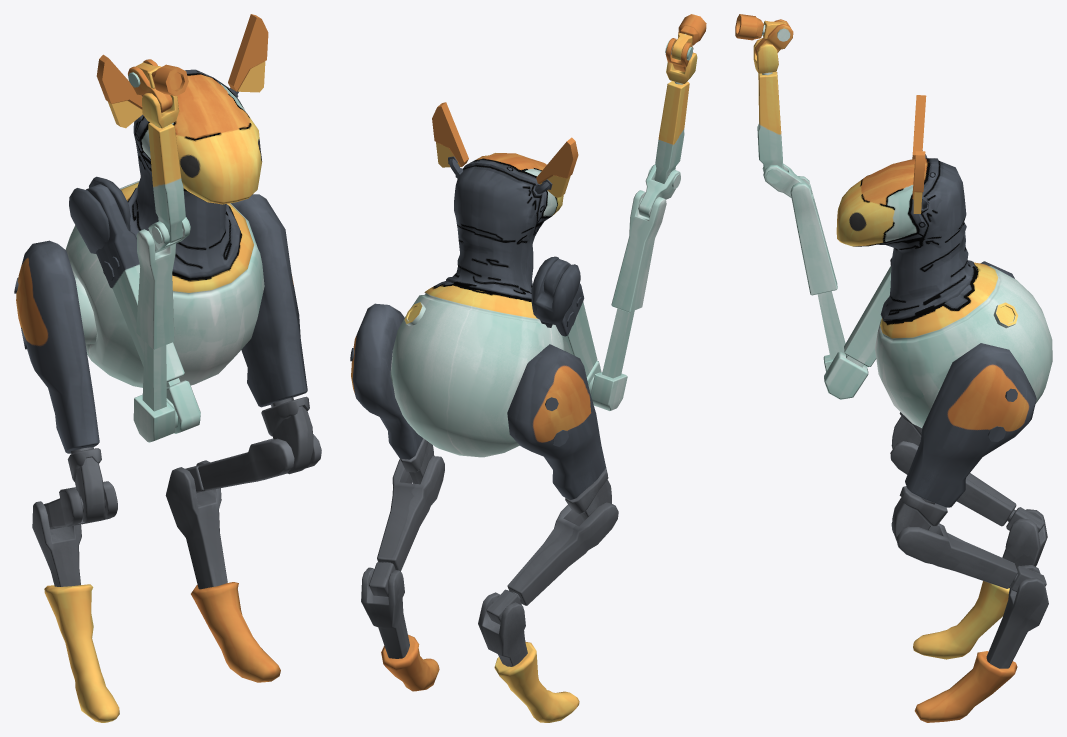
File: VRRObot_Test High Five Hight(1).fbx
3 views of the same model, side by side, from view 1: azimuth 30°, elevation 25°; view 2: azimuth 150°, elevation 25°; view 3: azimuth 270°, elevation 25° (orthographic). The views are drawn at different scales.
Visible parts, largest first — view 1: Robo_Ears; view 2: Robo_Ears; view 3: Robo_Ears.
Part boxes in pixels (<box>): Robo_Ears: <box>14,14,321,722</box>; Robo_Ears: <box>350,14,706,722</box>; Robo_Ears: <box>735,14,1052,722</box>.
Size of the model in its own units: 64.49 by 172 by 79.29.
